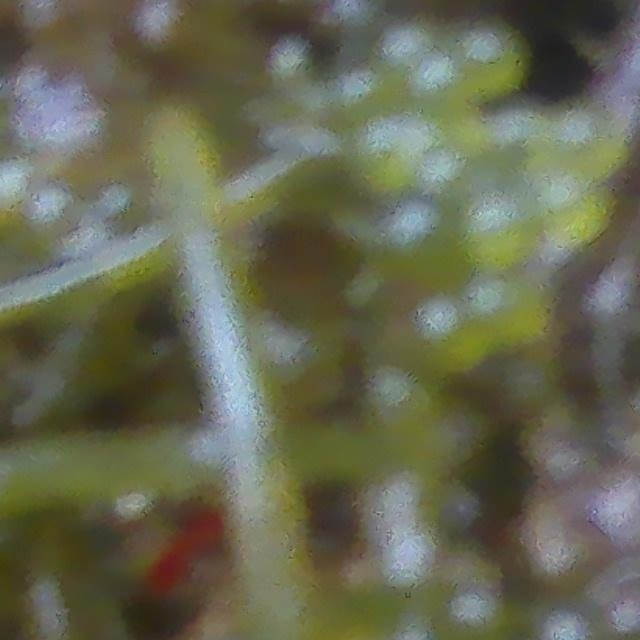SeaGrape: (382, 203, 464, 273), (473, 200, 545, 276), (417, 289, 487, 365), (473, 21, 536, 94), (496, 280, 566, 345), (415, 61, 478, 119)
